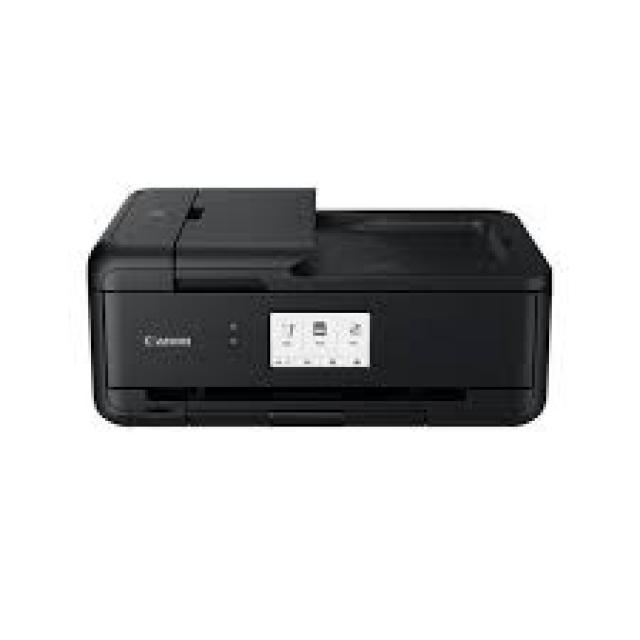printer: (85, 182, 552, 427)
